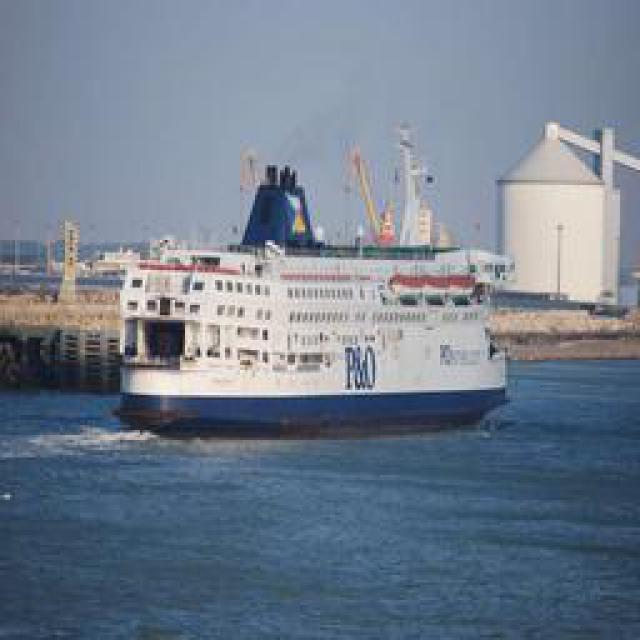Ship: (111, 126, 511, 439)
